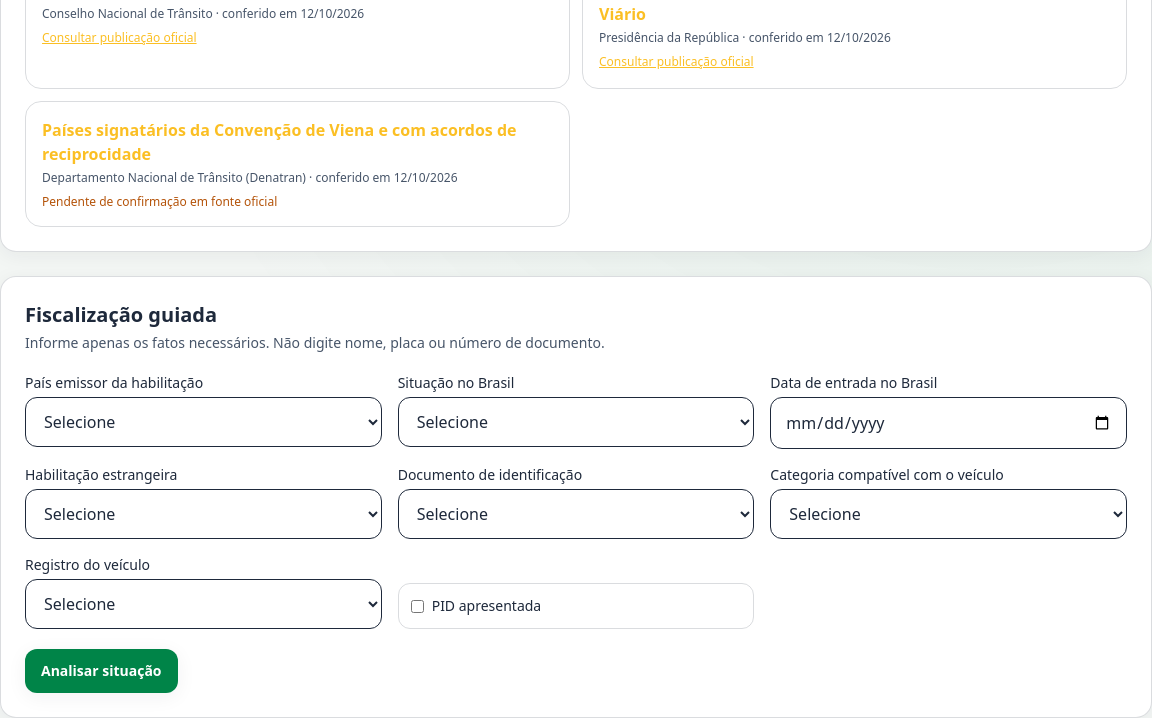
EstrangeirosConsulta › mostra perguntas pendentes e alternativas em linhas visíveis
(page scrolled)
Select "Argentina" in the dropdown labelled "País emissor da habilitação" at (203, 422), box [25, 397, 382, 447]
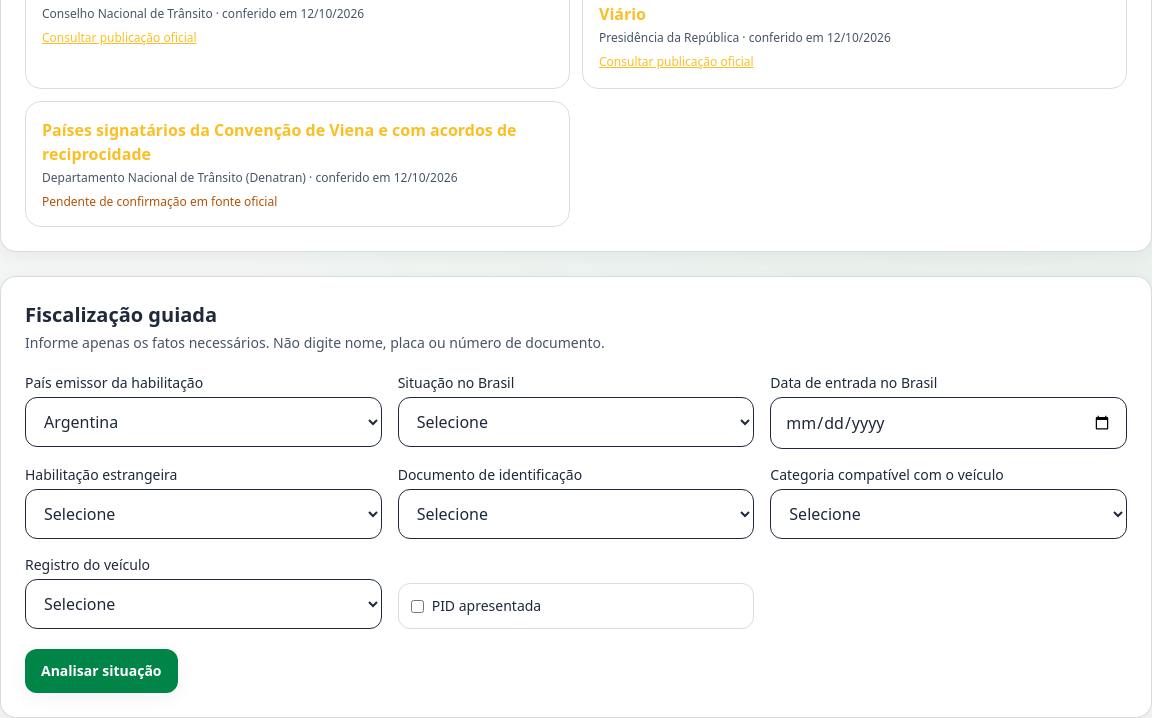
Click the button "Analisar situação" at (101, 671), box [25, 649, 178, 693]
(page scrolled)
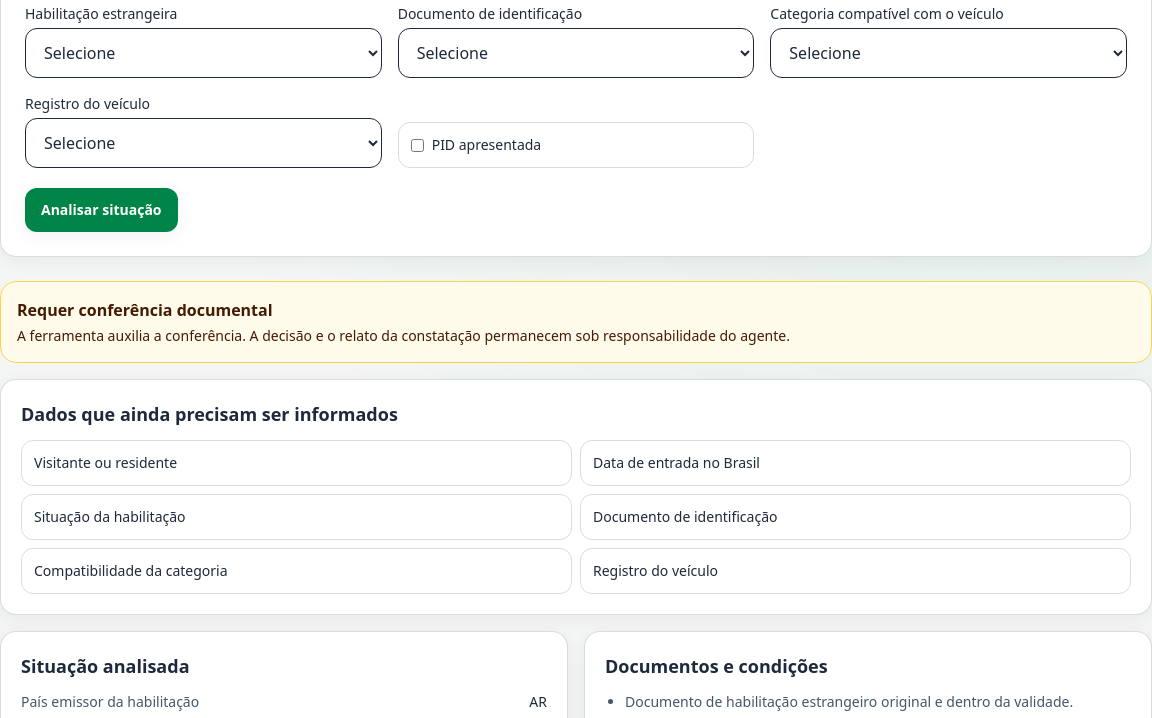
Expected: the heading "Dados que ainda precisam ser informados" is shown, [21, 402, 398, 426]
